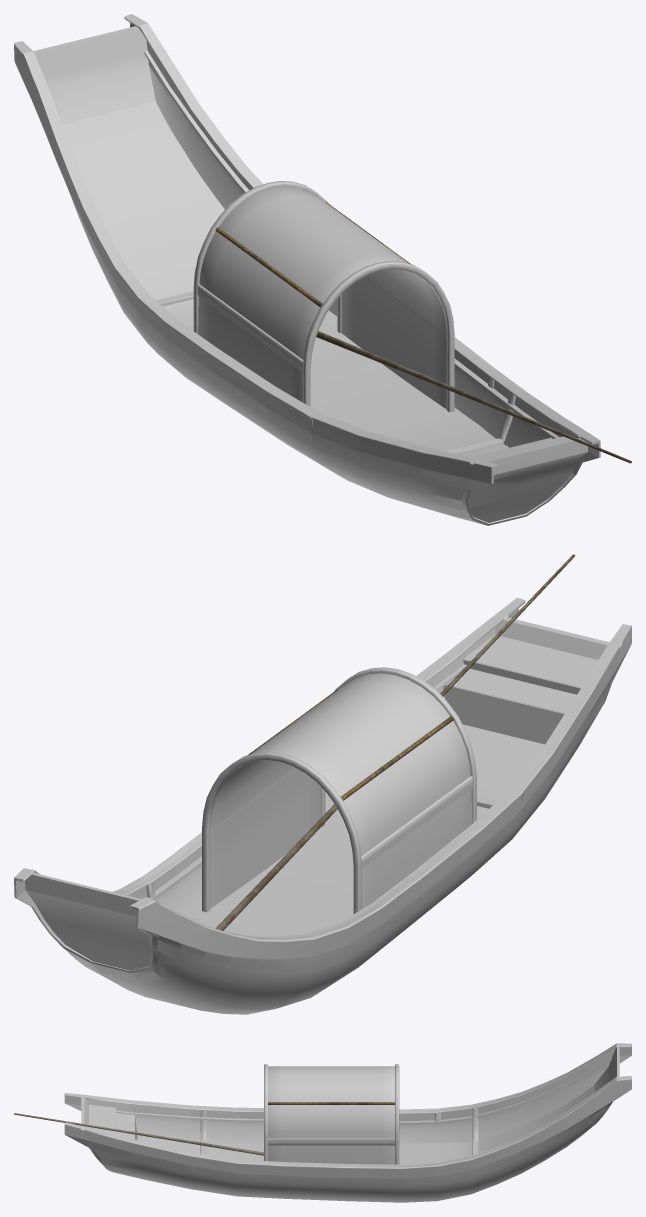
3 renders of one model, top to bottom at view 1: azimuth 30°, elevation 25°; view 2: azimuth 150°, elevation 25°; view 3: azimuth 270°, elevation 25°, orthographic. The views are drawn at different scales.
Parts seen in each view (by area): view 1: Ship_c_mod_08, Ship_c_shed_02, Ship_c_mod_09, Ship_c_shed_01, Ship_c_bamboo_07, Ship_c_shed_04, Ship_c_shed_05; view 2: Ship_c_mod_08, Ship_c_shed_02, Ship_c_mod_09, Ship_c_mod_04, Ship_c_shed_04, Ship_c_bamboo_07, Ship_c_shed_01, Ship_c_shed_05, Ship_c_bamboo_01; view 3: Ship_c_mod_08, Ship_c_shed_02, Ship_c_mod_09, Ship_c_mod_04, Ship_c_shed_03, Ship_c_bamboo_07, Ship_c_shed_04, Ship_c_shed_01, Ship_c_bamboo_02, Ship_c_mod_10, Ship_c_mod_05.
Part boxes in pixels (x1,y1,x2,y2): Ship_c_mod_08: (14,14,600,525); Ship_c_shed_02: (198,186,446,408); Ship_c_mod_09: (62,102,508,457); Ship_c_shed_01: (302,261,454,412); Ship_c_bamboo_07: (316,331,631,463); Ship_c_shed_04: (193,181,341,333); Ship_c_shed_05: (197,284,303,371); Ship_c_mod_08: (14,598,631,1014); Ship_c_shed_02: (210,673,472,908); Ship_c_mod_09: (183,724,544,936); Ship_c_mod_04: (443,634,598,744); Ship_c_shed_04: (202,751,361,913); Ship_c_bamboo_07: (216,554,575,930); Ship_c_shed_01: (321,667,476,827); Ship_c_shed_05: (361,776,472,868); Ship_c_bamboo_01: (341,716,453,800); Ship_c_mod_08: (64,1043,631,1202); Ship_c_shed_02: (268,1066,394,1164); Ship_c_mod_09: (137,1085,594,1164); Ship_c_mod_04: (89,1104,137,1139); Ship_c_shed_03: (268,1138,394,1145); Ship_c_bamboo_07: (14,1113,263,1155); Ship_c_shed_04: (395,1064,399,1164); Ship_c_shed_01: (264,1064,267,1160); Ship_c_bamboo_02: (268,1102,394,1104); Ship_c_mod_10: (472,1108,478,1155); Ship_c_mod_05: (200,1110,206,1154).
Size of the model in its own units: 199 by 209 by 890.
